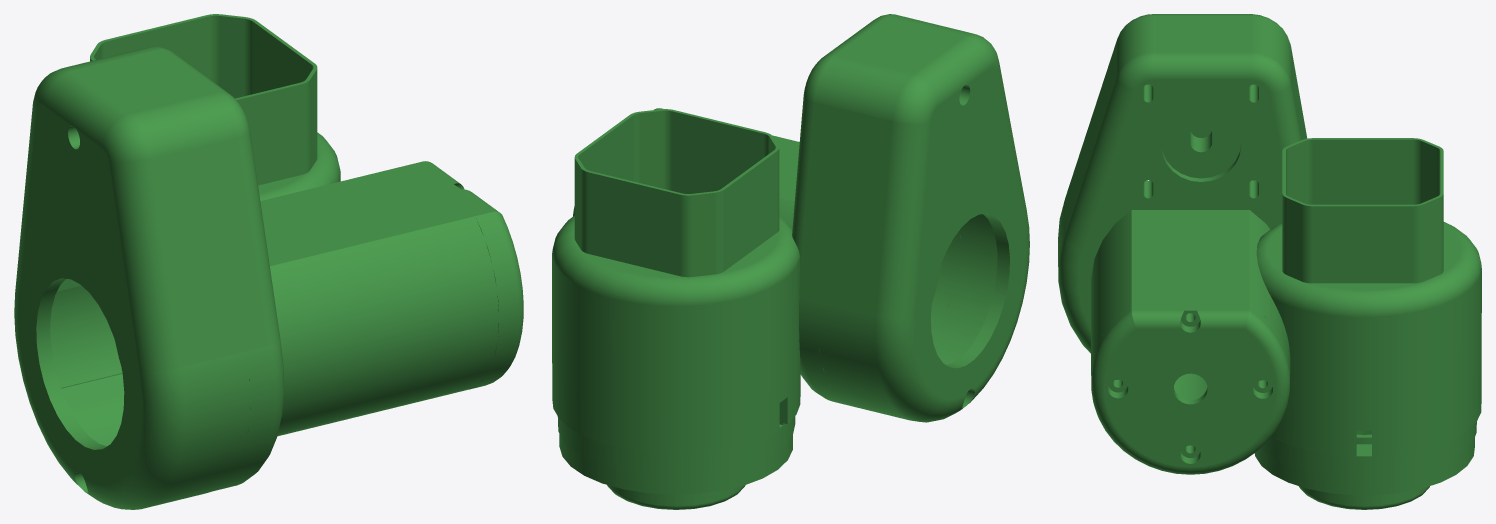
3 renders of one model, left to right at view 1: azimuth 30°, elevation 25°; view 2: azimuth 150°, elevation 25°; view 3: azimuth 270°, elevation 25°, orthographic. The views are drawn at different scales.
Visible parts, largest first — view 1: Cuerpo1, Cuerpo1:2, Cuerpo1:1; view 2: Cuerpo1:2, Cuerpo1; view 3: Cuerpo1:2, Cuerpo1:1, Cuerpo1.
Part boxes in pixels (x1,y1,x2,y2): Cuerpo1: [14, 52, 250, 509]; Cuerpo1:2: [90, 14, 498, 490]; Cuerpo1:1: [406, 161, 523, 389]; Cuerpo1:2: [552, 14, 960, 509]; Cuerpo1: [817, 19, 1029, 422]; Cuerpo1:2: [1058, 43, 1481, 509]; Cuerpo1:1: [1091, 303, 1289, 474]; Cuerpo1: [1058, 14, 1307, 266].
Bounding box in the file's own units: 11.28 × 12.46 × 12.44.
